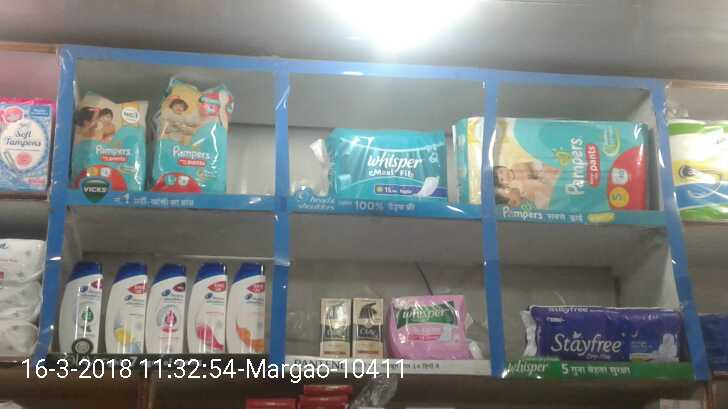beauty: (102, 262, 149, 357), (56, 252, 101, 351), (183, 260, 229, 354), (230, 259, 265, 365), (148, 257, 185, 353), (319, 295, 350, 356), (355, 297, 385, 359)
pharmacy: (461, 116, 660, 216), (144, 70, 224, 184), (69, 88, 145, 194), (395, 292, 470, 363)
